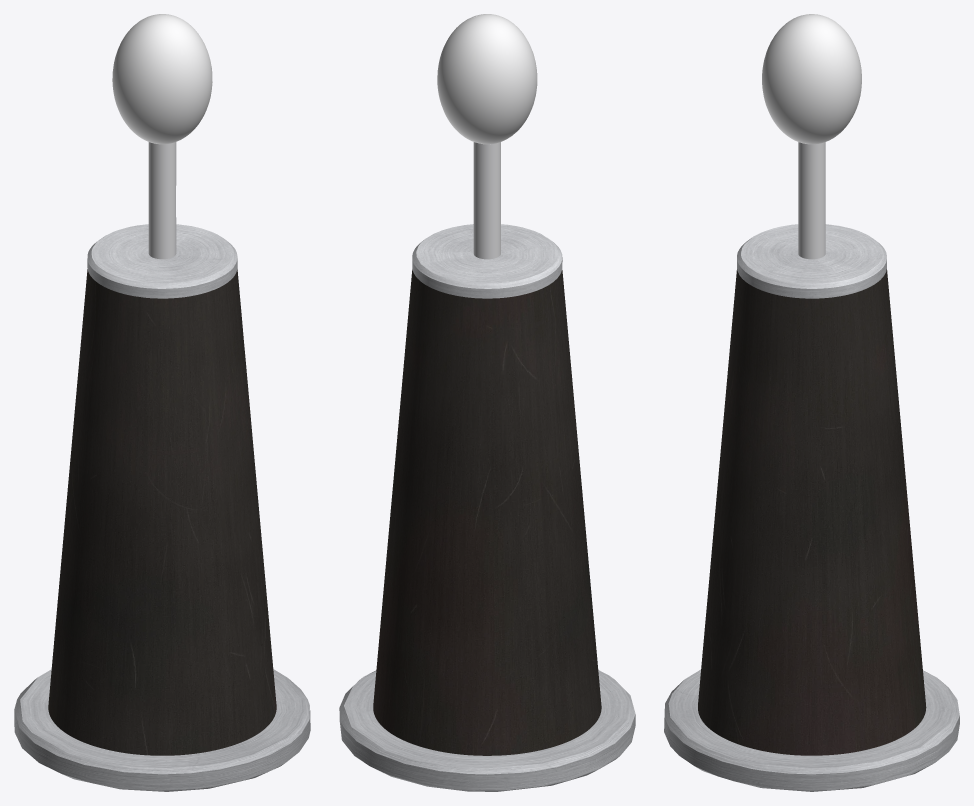
Rendered from bishop-black.glb.
3 views of the same model, side by side, from view 1: azimuth 30°, elevation 25°; view 2: azimuth 150°, elevation 25°; view 3: azimuth 270°, elevation 25° (orthographic).
Parts seen in each view (by area): view 1: ferro-orbis_bishop_black; view 2: ferro-orbis_bishop_black; view 3: ferro-orbis_bishop_black.
Part boxes in pixels (left/top/right/bottom): ferro-orbis_bishop_black: left=14, top=14, right=310, bottom=791; ferro-orbis_bishop_black: left=339, top=14, right=635, bottom=791; ferro-orbis_bishop_black: left=664, top=14, right=959, bottom=791.
Bounding box in the file's own units: 0.5088 × 1.35 × 0.5078.
5 materials, 3 textured.
